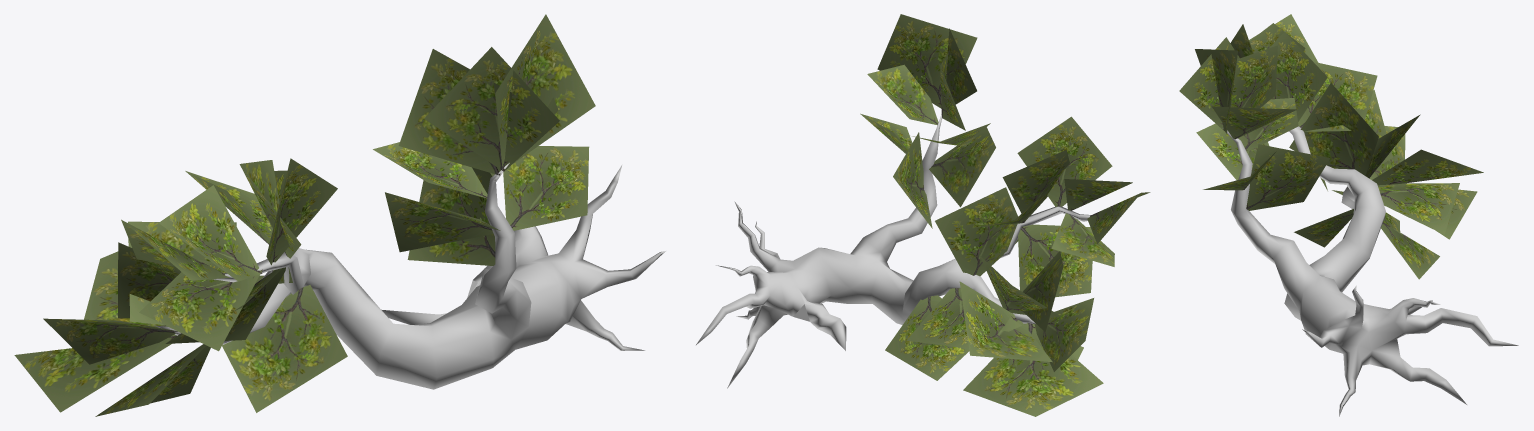
The model's file is JiaYeSiWai1_ShuLv_6.FBX.
3 renders of one model, left to right at view 1: azimuth 30°, elevation 25°; view 2: azimuth 150°, elevation 25°; view 3: azimuth 270°, elevation 25°, orthographic. The views are drawn at different scales.
Visible parts, largest first — view 1: JiaYeSiWai1_ShuLv_6a, JiaYeSiWai1_ShuLv_6b; view 2: JiaYeSiWai1_ShuLv_6a, JiaYeSiWai1_ShuLv_6b; view 3: JiaYeSiWai1_ShuLv_6a, JiaYeSiWai1_ShuLv_6b.
Boxes of the visible parts, left/top/right/bottom form: JiaYeSiWai1_ShuLv_6a: left=14, top=14, right=595, bottom=416; JiaYeSiWai1_ShuLv_6b: left=154, top=163, right=665, bottom=389; JiaYeSiWai1_ShuLv_6a: left=860, top=14, right=1150, bottom=416; JiaYeSiWai1_ShuLv_6b: left=696, top=114, right=1090, bottom=388; JiaYeSiWai1_ShuLv_6a: left=1179, top=14, right=1483, bottom=279; JiaYeSiWai1_ShuLv_6b: left=1222, top=126, right=1518, bottom=416.
Size of the model in its own units: 1126 by 866 by 829.
